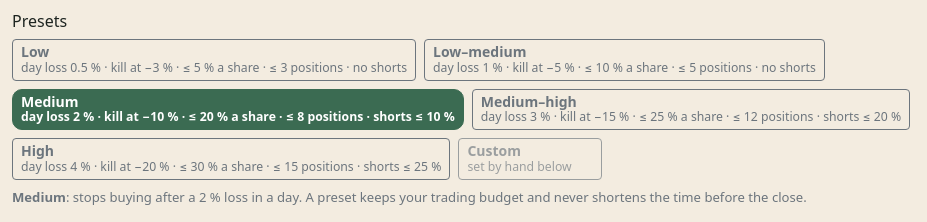
Test: RiskPresets › shows each preset's numbers, marks the matching one and applies a preset with {preset} only
Check: the text "stops buying after a 2 % loss in a day" is shown, box [73,188,299,206]
Click the button with aria-label "Low preset" at point(214, 60), box [12,39,416,81]
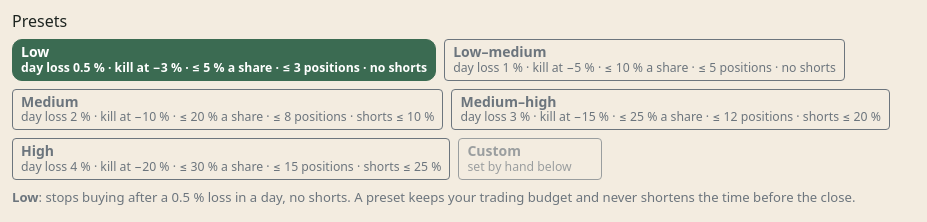
Check: the button with aria-label "Low preset" is pressed, box [12,39,436,81]
